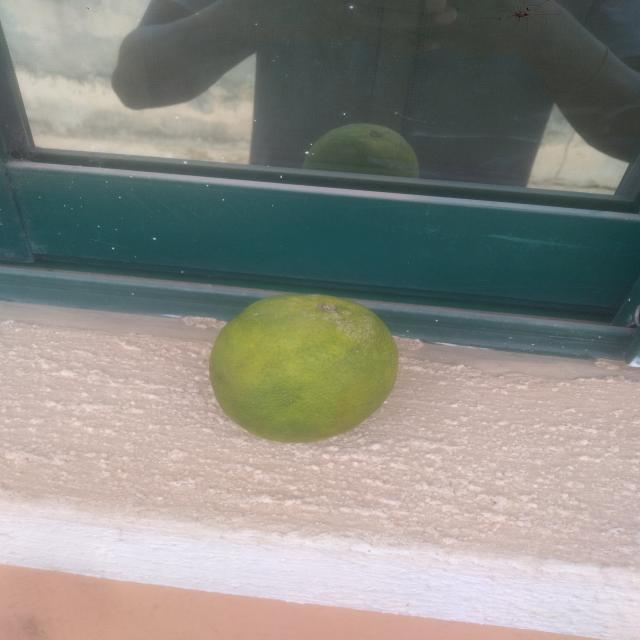Unripe: (187, 278, 430, 470)
